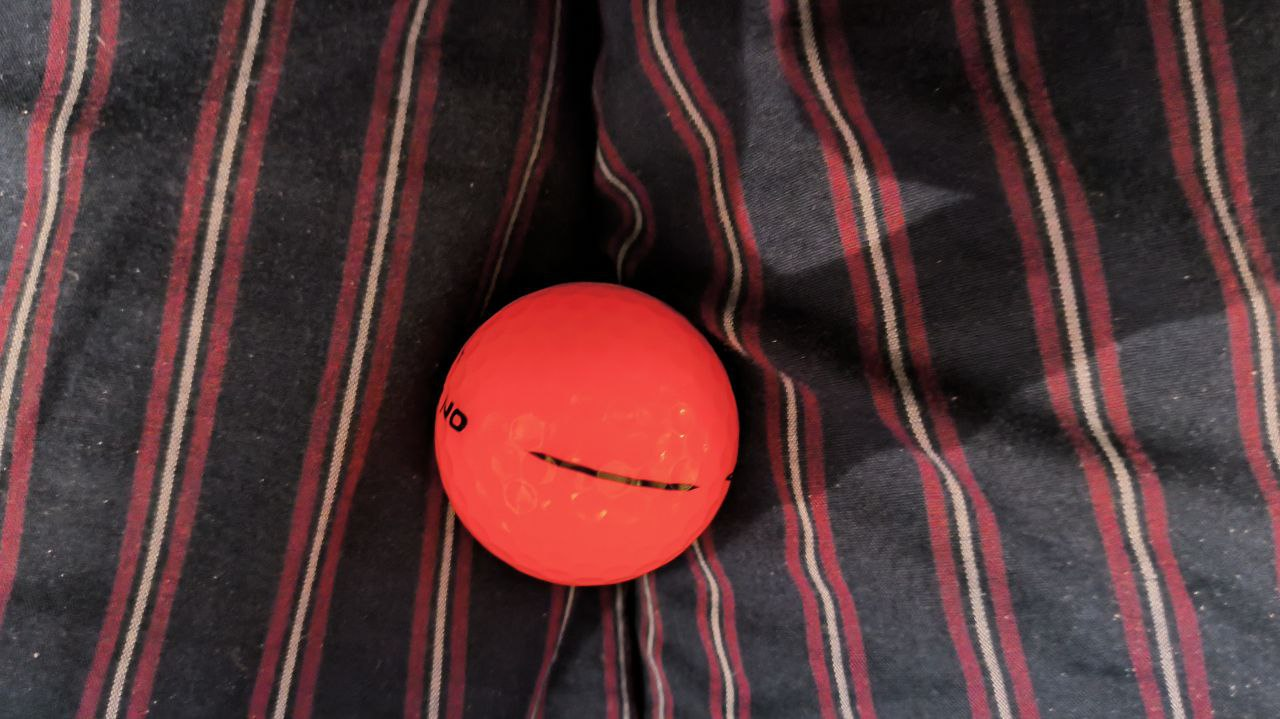orange_ball: (435, 281, 740, 587)
